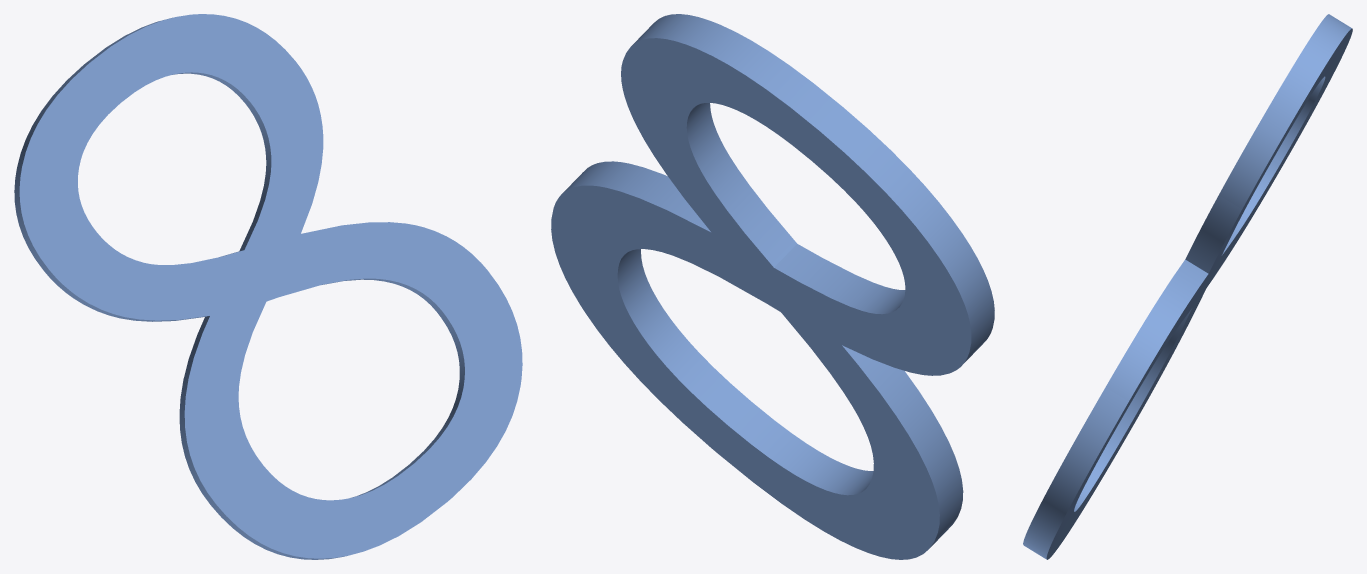
Rendered from New_Number_8.gltf.
3 renders of one model, left to right at view 1: azimuth 30°, elevation 25°; view 2: azimuth 150°, elevation 25°; view 3: azimuth 270°, elevation 25°, orthographic. The views are drawn at different scales.
Visible parts, largest first — view 1: Part 71; view 2: Part 71; view 3: Part 71.
Boxes of the visible parts, <box> form: Part 71: <box>14,14,522,559</box>; Part 71: <box>551,14,994,559</box>; Part 71: <box>1023,14,1352,559</box>.
Size of the model in its own units: 0.00458 by 0.00508 by 0.00305.
